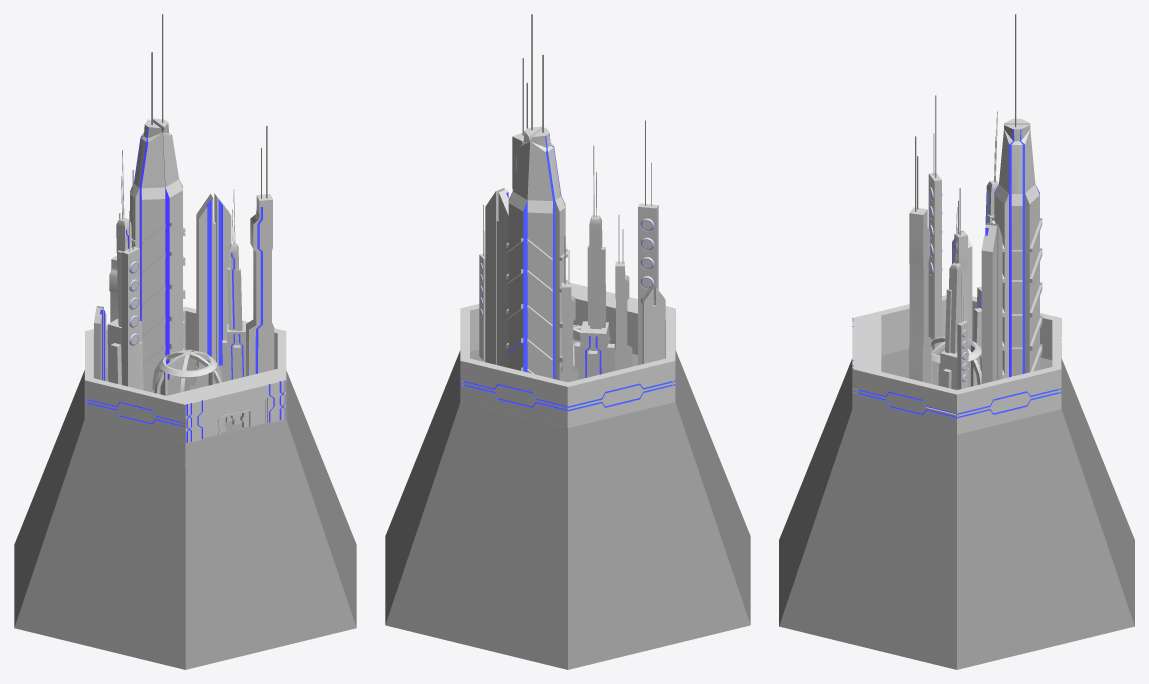
The model's file is Mother_ver1.2.fbx.
3 renders of one model, left to right at view 1: azimuth 30°, elevation 25°; view 2: azimuth 150°, elevation 25°; view 3: azimuth 270°, elevation 25°, orthographic. The views are drawn at different scales.
Parts seen in each view (by area): view 1: pCylinder19, pCylinder20, pCube106, pCube78, pCube56, pCylinder26, pCylinder36, pointLight3, pointLight2, pPipe9, pCube107, pCube57 (+1 smaller); view 2: pCylinder19, pCylinder20, pCube58, pCube59, pCube106, pointLight2, pCylinder36, pCube78, pCube107, pCylinder27, pCylinder39, pCylinder38 (+2 smaller); view 3: pCylinder19, pCylinder20, pCube55, pCube57, pCylinder26, pCube106, pCylinder36, pointLight3, pCube78, pCube56, pCylinder27, pointLight2 (+4 smaller).
Boxes of the visible parts, x1,y1,x2,y2 form: pCylinder19: [14, 349, 356, 669]; pCylinder20: [130, 118, 185, 381]; pCube106: [196, 193, 231, 369]; pCube78: [166, 368, 286, 443]; pCube56: [84, 377, 189, 443]; pCylinder26: [246, 125, 274, 376]; pCylinder36: [122, 170, 139, 389]; pointLight3: [222, 189, 245, 381]; pointLight2: [107, 150, 143, 390]; pPipe9: [152, 349, 221, 395]; pCube107: [94, 306, 106, 380]; pCube57: [183, 306, 285, 369]; pCylinder19: [385, 337, 750, 669]; pCylinder20: [506, 126, 567, 380]; pCube58: [460, 357, 571, 427]; pCube59: [563, 358, 674, 427]; pCube106: [485, 188, 508, 367]; pointLight2: [574, 145, 615, 379]; pCylinder36: [638, 120, 658, 365]; pCube78: [568, 282, 675, 358]; pCube107: [642, 285, 665, 364]; pCylinder27: [615, 215, 632, 370]; pCylinder39: [560, 235, 578, 382]; pCylinder38: [479, 205, 485, 360]; pCylinder19: [779, 342, 1134, 669]; pCylinder20: [992, 118, 1042, 378]; pCube55: [852, 366, 960, 434]; pCube57: [955, 366, 1061, 434]; pCylinder26: [909, 136, 931, 383]; pCube106: [981, 223, 1002, 383]; pCylinder36: [928, 95, 942, 349]; pointLight3: [938, 207, 969, 389]; pCube78: [852, 314, 881, 393]; pCube56: [853, 295, 946, 355]; pCylinder27: [952, 188, 968, 348]; pointLight2: [973, 111, 998, 366].
Size of the model in its own units: 4272 by 6559 by 3700.
